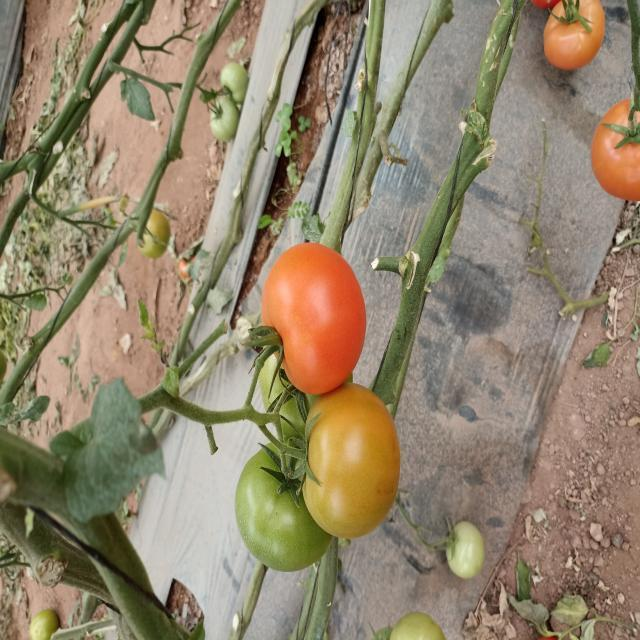Ripe Tomato: (258, 237, 372, 393), (302, 386, 394, 537), (592, 86, 640, 196), (540, 0, 610, 74), (536, 0, 561, 10)
Unripe Tomato: (235, 432, 338, 562), (256, 360, 303, 443), (440, 512, 484, 580), (384, 601, 448, 640), (136, 200, 174, 260), (207, 94, 240, 148), (218, 66, 248, 100), (26, 608, 60, 638)
